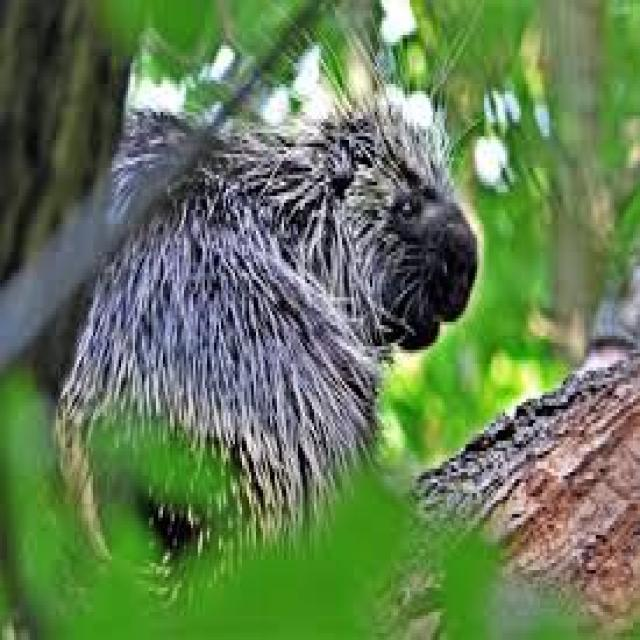Porcupine: (80, 98, 478, 542)
